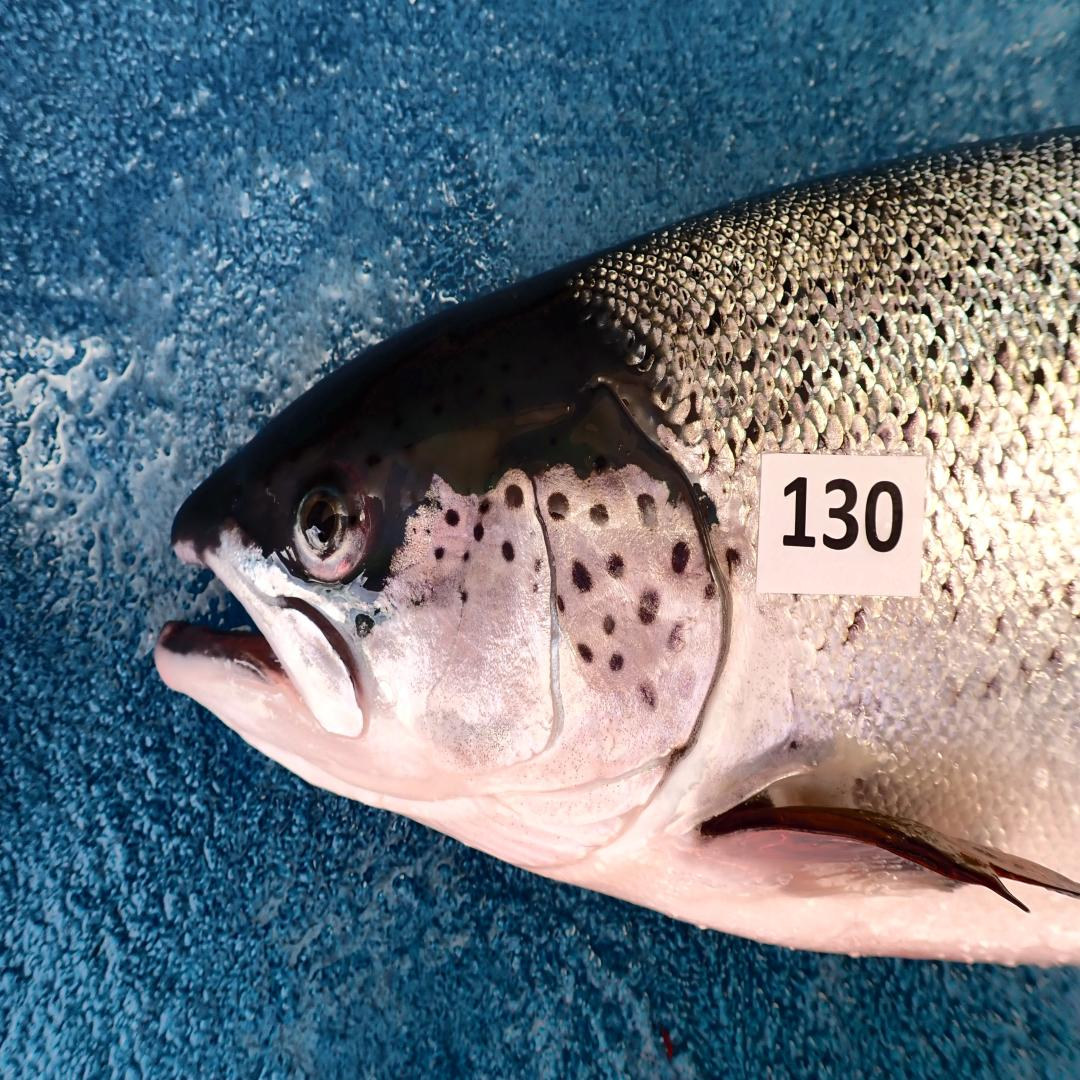spot: (637, 492, 658, 529), (637, 591, 660, 624), (572, 560, 593, 591), (548, 492, 570, 520), (671, 543, 690, 574), (637, 680, 656, 710), (589, 503, 610, 526), (504, 484, 523, 509), (669, 624, 683, 652), (407, 588, 426, 608), (608, 554, 624, 577), (578, 644, 593, 664), (502, 540, 515, 562), (610, 652, 624, 672), (473, 520, 485, 543), (603, 616, 616, 636), (445, 509, 460, 526), (703, 584, 716, 601), (479, 498, 491, 515), (435, 546, 445, 560), (435, 498, 445, 512), (557, 596, 565, 613), (460, 588, 468, 605), (534, 557, 542, 571), (462, 551, 470, 562), (532, 582, 538, 593), (424, 529, 430, 537)
